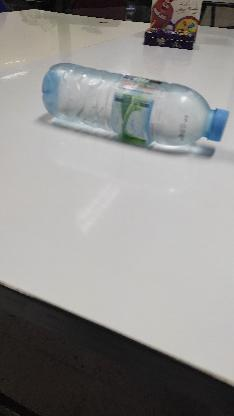Plastic Bottle: (39, 60, 231, 152)
